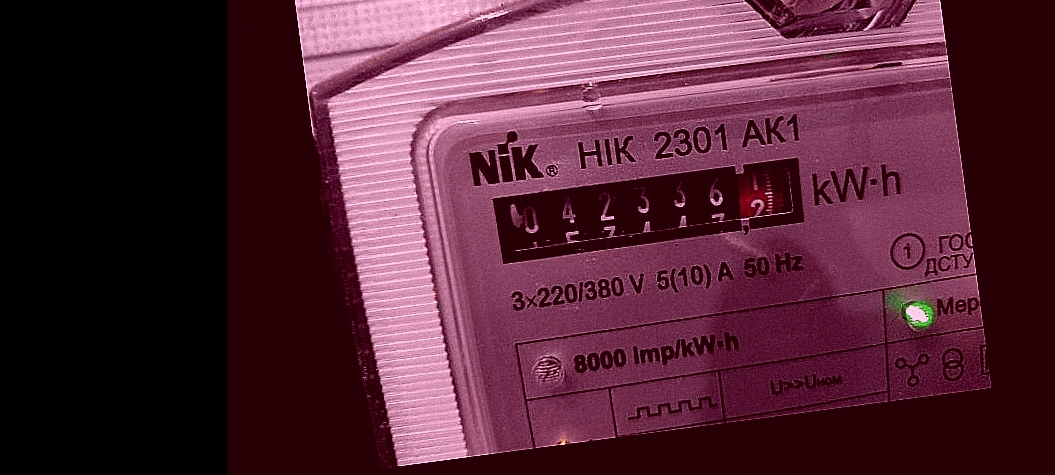0: (518, 200, 541, 236)
1: (745, 165, 761, 193)
2: (593, 186, 618, 223), (747, 196, 766, 219)
3: (630, 181, 652, 215), (668, 176, 689, 210)
4: (557, 191, 578, 225)
6: (703, 173, 728, 209)
screen: (478, 141, 822, 275)
